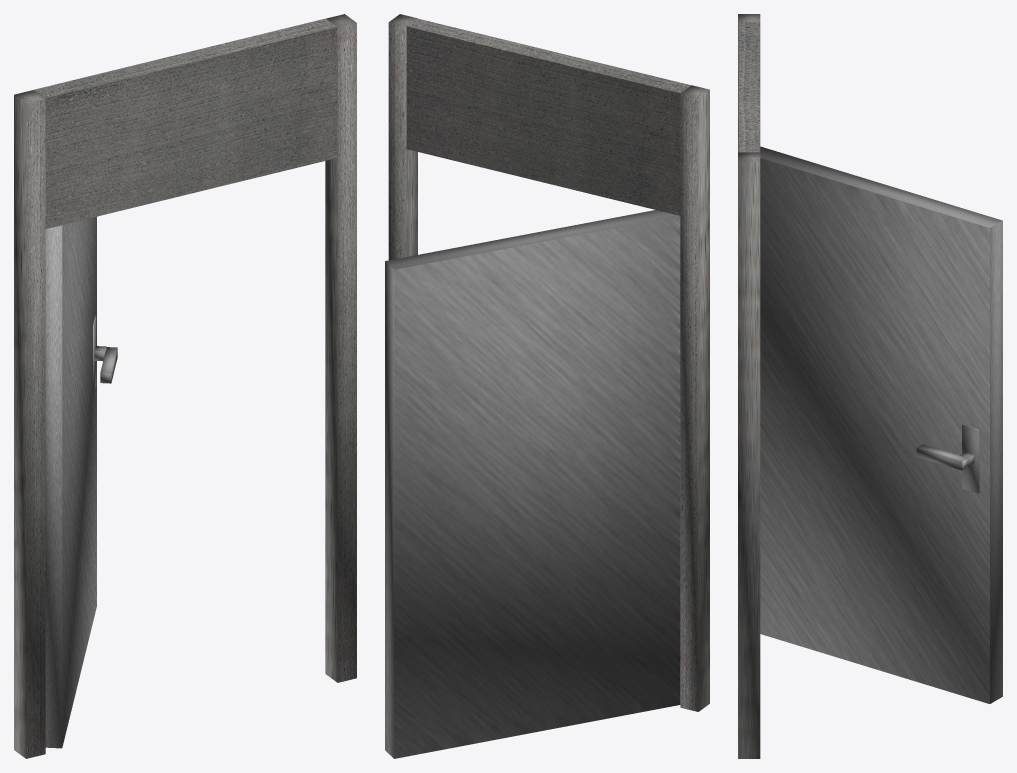
Rendered from metaldoor_000003.obj.
3 renders of one model, left to right at view 1: azimuth 30°, elevation 25°; view 2: azimuth 150°, elevation 25°; view 3: azimuth 270°, elevation 25°, orthographic. The views are drawn at different scales.
Parts seen in each view (by area): view 1: Cube.006_Cube.007, Cube.004_Cube.005; view 2: Cube.004_Cube.005, Cube.006_Cube.007; view 3: Cube.004_Cube.005, Cube.006_Cube.007.
Boxes of the visible parts, <box> form: Cube.006_Cube.007: <box>14,14,356,758</box>; Cube.004_Cube.005: <box>45,216,117,748</box>; Cube.004_Cube.005: <box>385,210,680,758</box>; Cube.006_Cube.007: <box>388,14,709,711</box>; Cube.004_Cube.005: <box>760,146,1002,703</box>; Cube.006_Cube.007: <box>738,14,760,758</box>.
Bounding box in the file's own units: 1.58 × 3 × 1.2.
